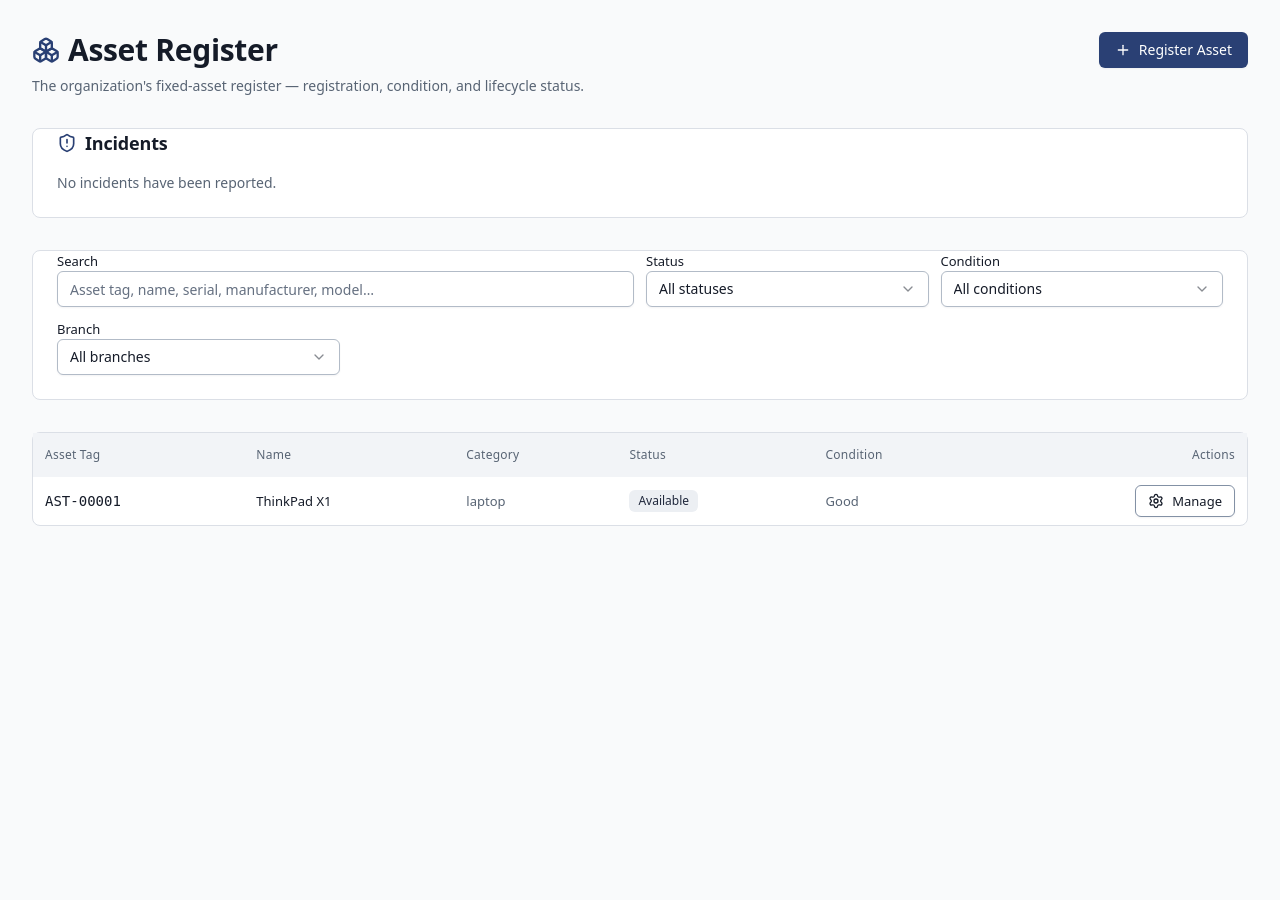
Scenario: Asset Register page › opens the manage dialog and shows existing configuration
Click the button with test id "button-manage-asset-1" at (1185, 501), box [1135,485,1235,517]
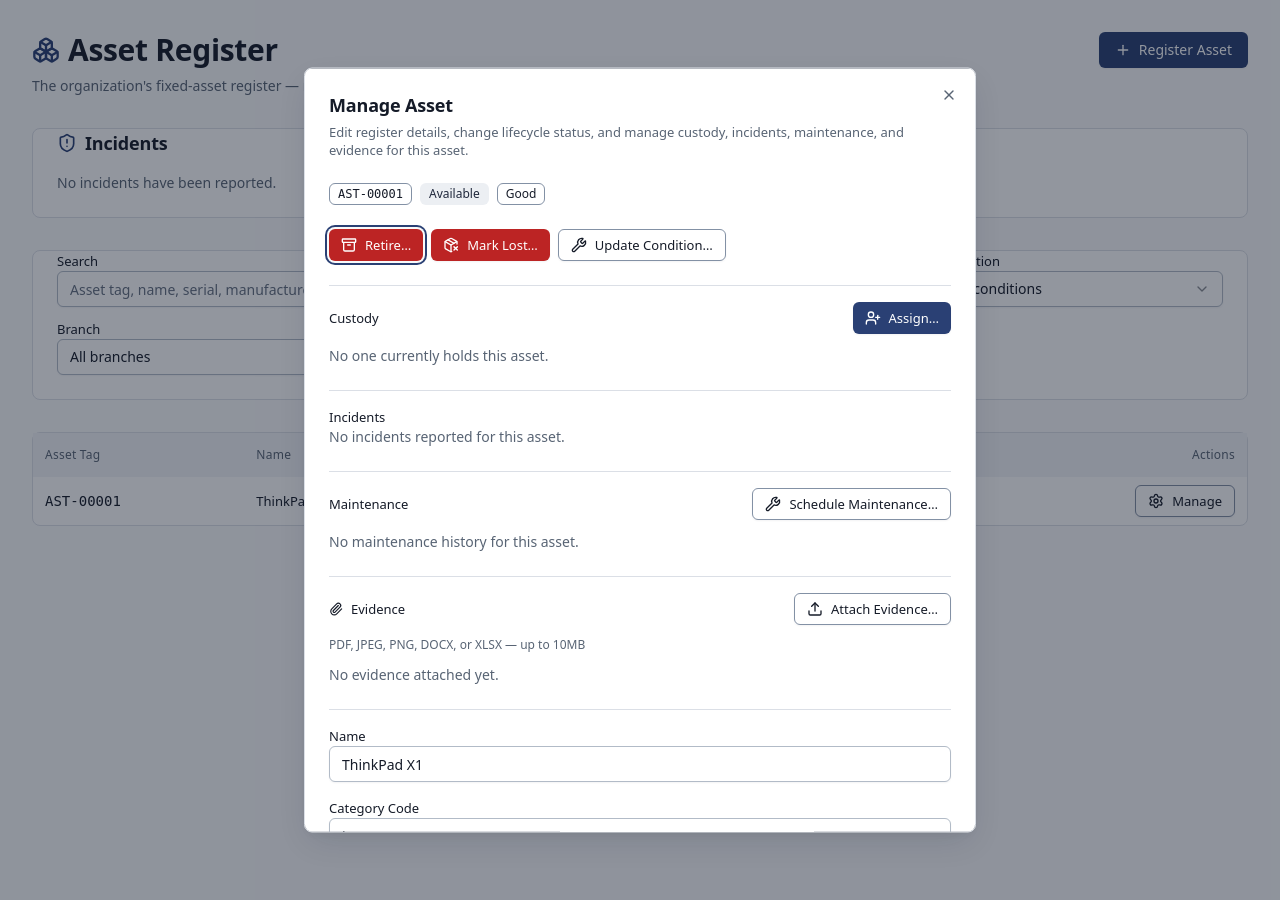
Now the field with test id "input-edit-asset-name" holds "ThinkPad X1", box [329,746,951,782]
Now the text with test id "text-manage-asset-tag" reads "AST-00001", box [338,186,403,200]
